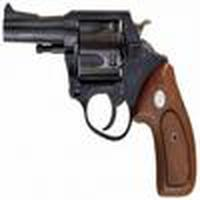gun: (3, 8, 196, 200)
